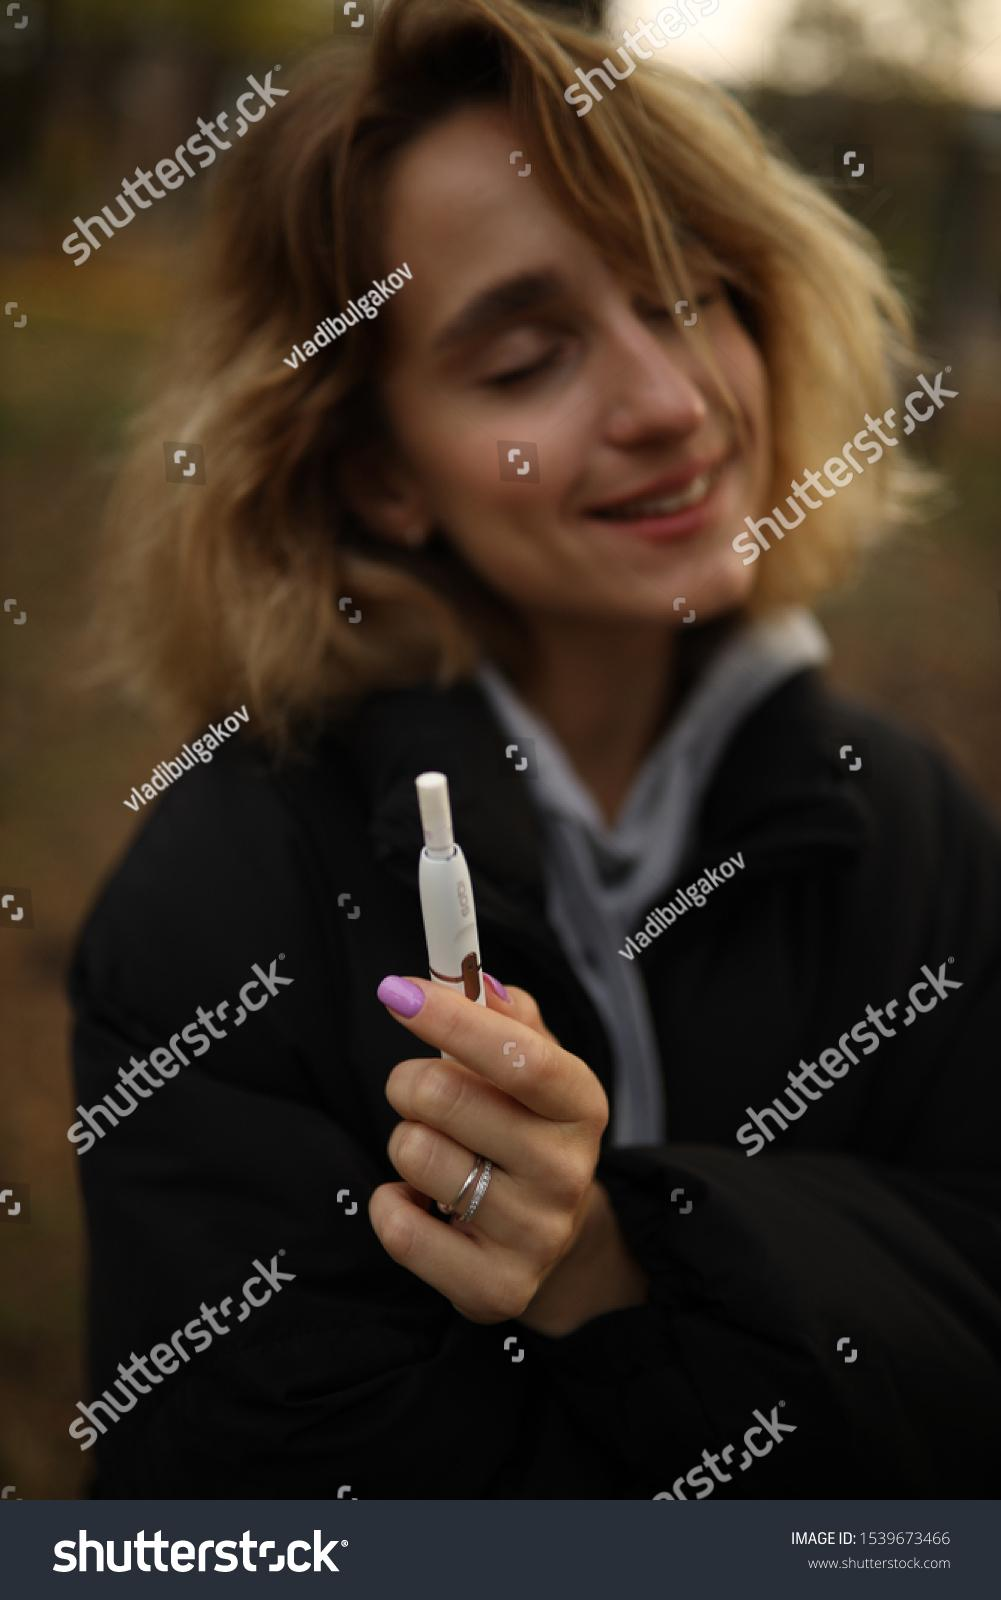iqos: (416, 772, 483, 1004)
